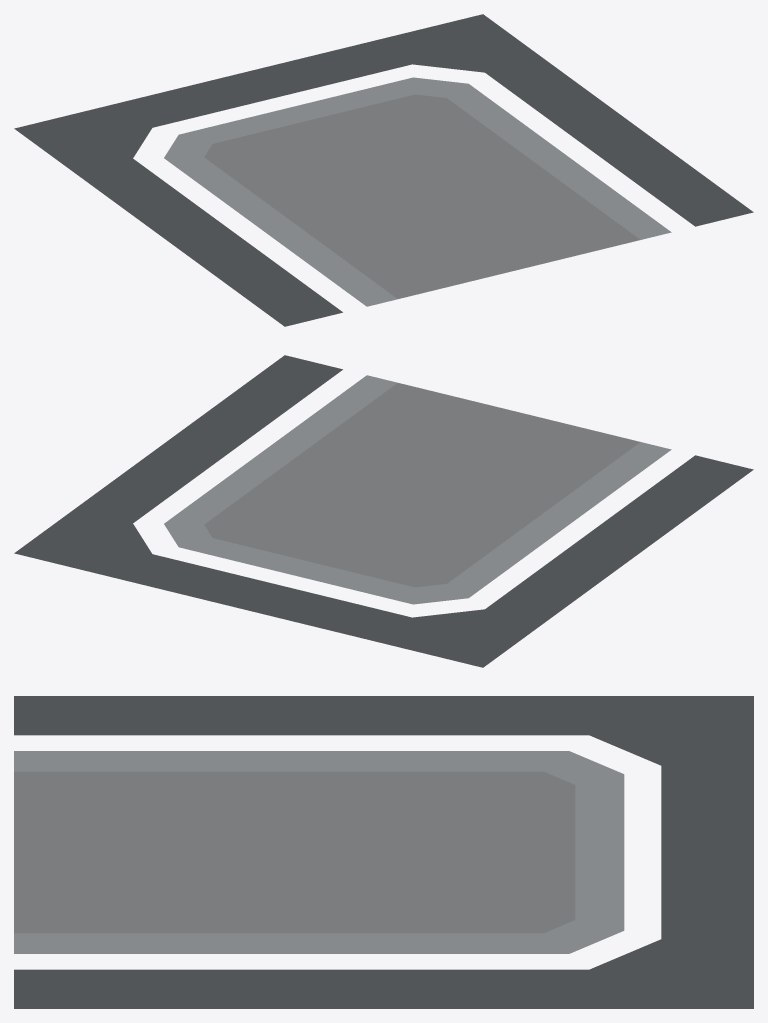
The model's file is Ceiling_type_B_049.glb.
The picture shows the model from 3 angles, top to bottom: view 1: azimuth 30°, elevation 25°; view 2: azimuth 150°, elevation 25°; view 3: azimuth 270°, elevation 25°; orthographic projection. The views are drawn at different scales.
Parts seen in each view (by area): view 1: Ceiling_type_B_049; view 2: Ceiling_type_B_049; view 3: Ceiling_type_B_049.
Part boxes in pixels (bbox=[...]): Ceiling_type_B_049: bbox=[14, 14, 753, 326]; Ceiling_type_B_049: bbox=[14, 355, 753, 667]; Ceiling_type_B_049: bbox=[14, 696, 753, 1008].
Bounding box in the file's own units: 4 × 0.035 × 4.
Materials: 2 (2 with a texture image).
